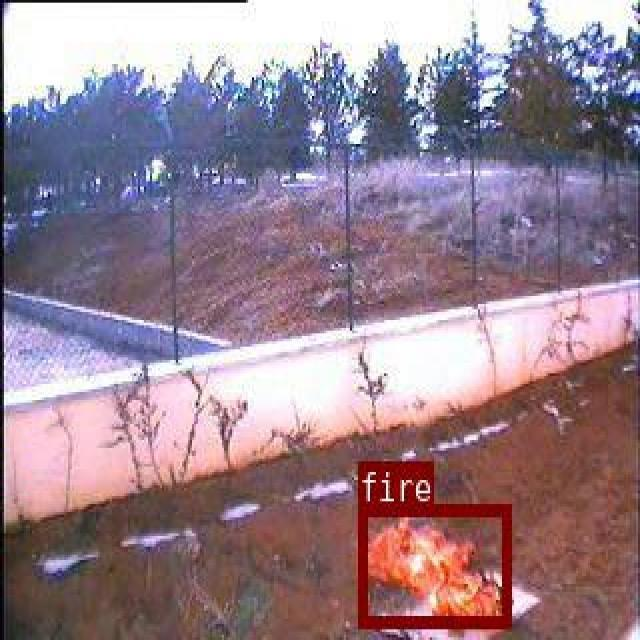fire: (357, 503, 508, 625)
